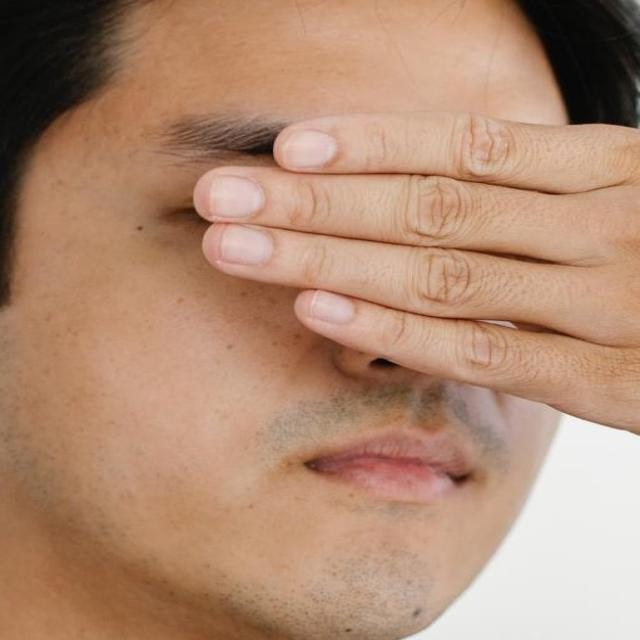7_mano_rostro: (192, 107, 608, 426)
